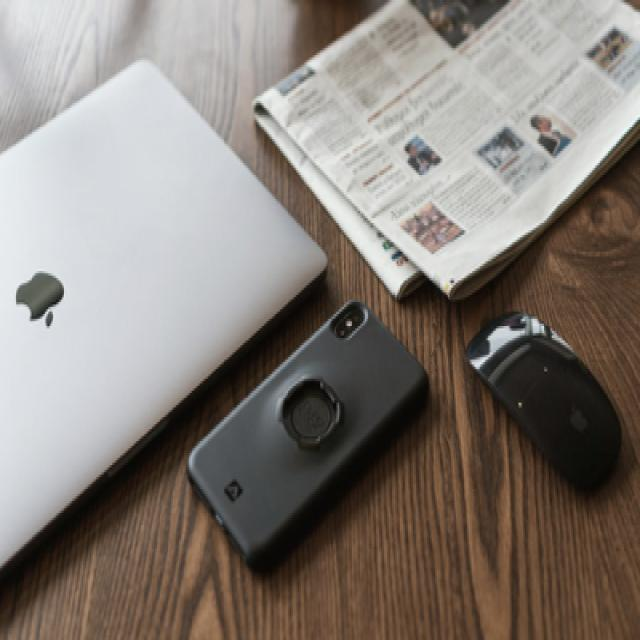cellphone: (185, 297, 428, 568)
